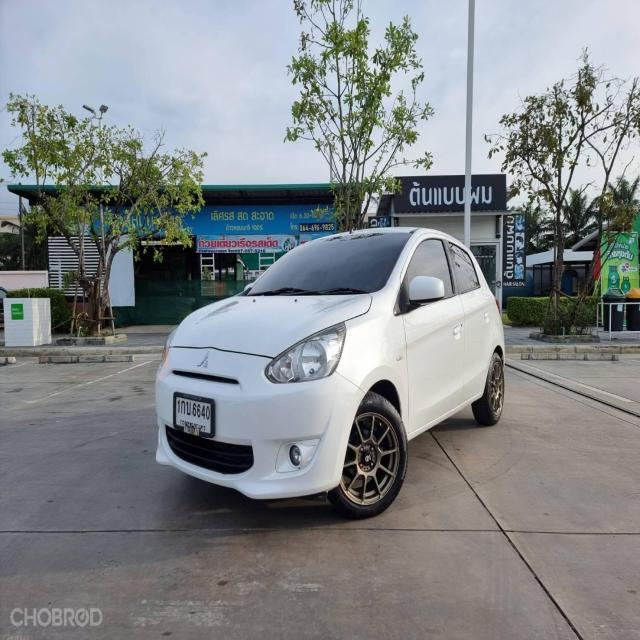license_plate: (172, 389, 217, 438)
